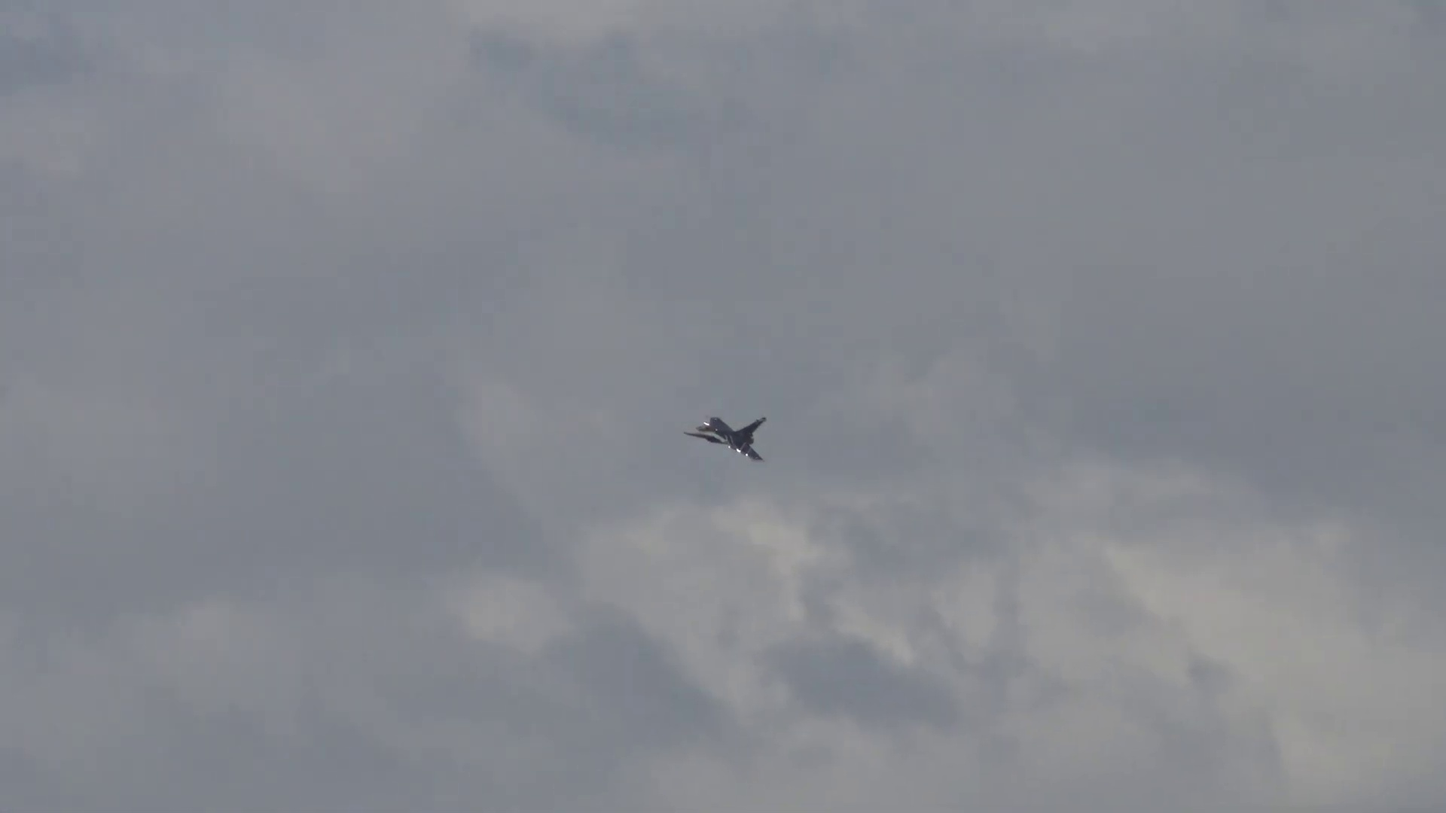Rafale: (683, 415, 768, 463)
